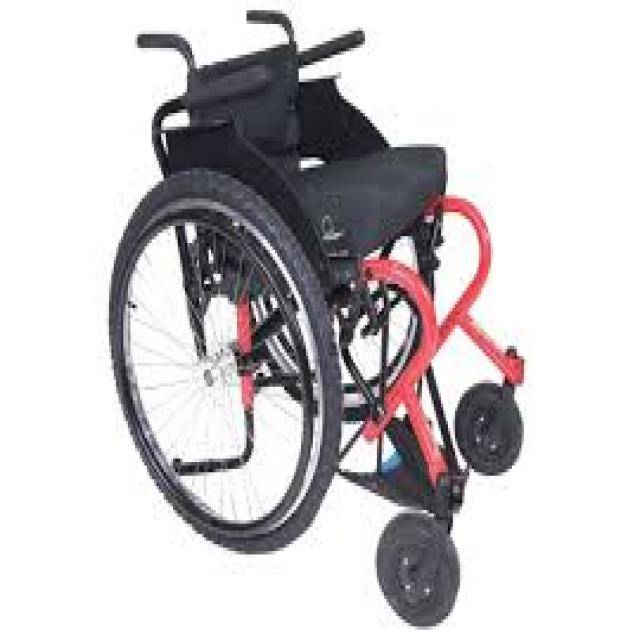wheelchairs: (88, 11, 469, 620)
